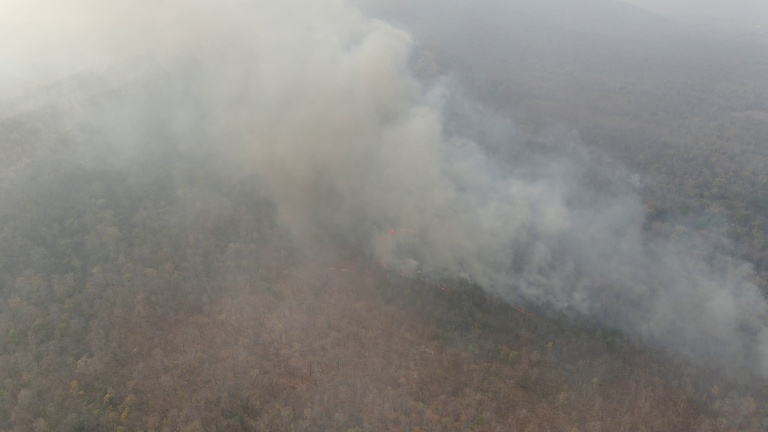fire: (483, 293, 538, 317), (407, 265, 452, 292), (380, 222, 418, 239)
smoke: (170, 5, 535, 295), (509, 136, 768, 367)
